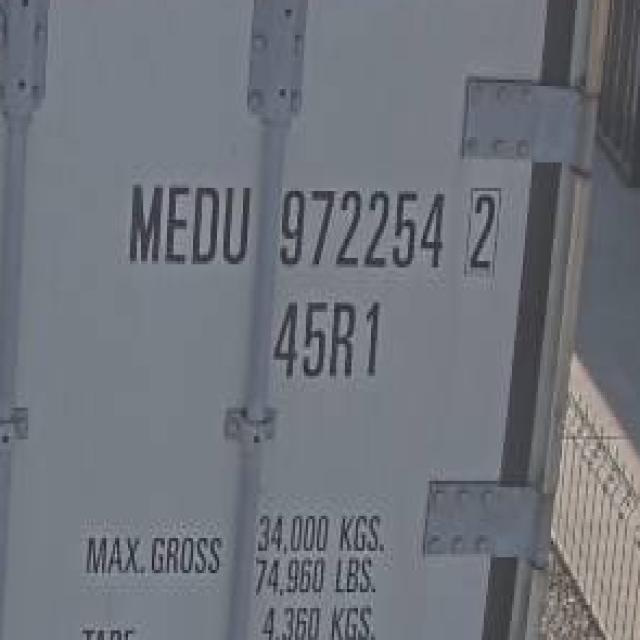dv: (456, 181, 501, 276)
owner: (120, 170, 255, 281)
serial: (270, 182, 450, 279)
size: (273, 292, 382, 382)
